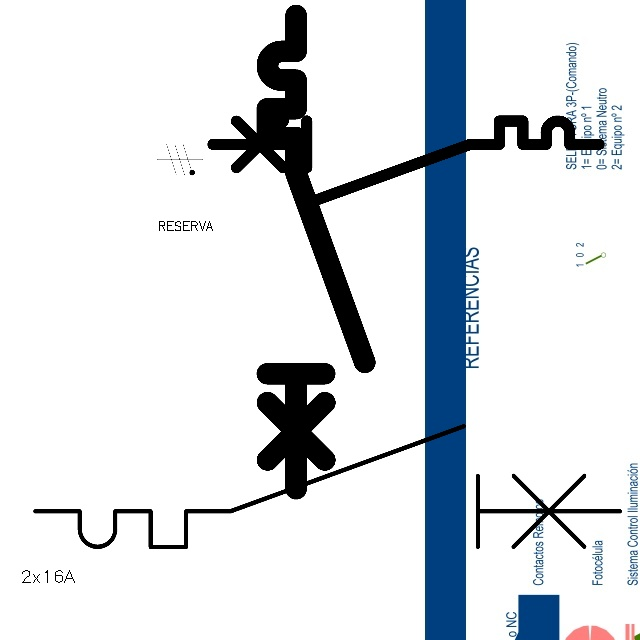interruptor_termomagnetico: (20, 411, 635, 562), (255, 3, 377, 501), (202, 111, 608, 210)
